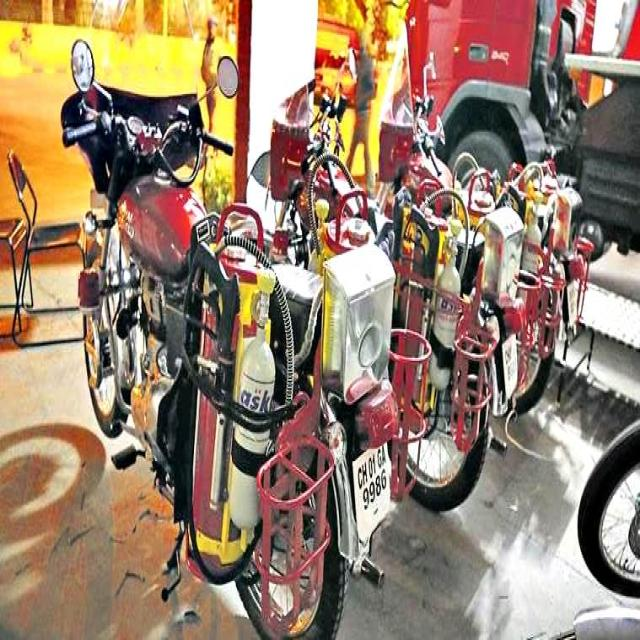motorcycle: (61, 40, 398, 637)
